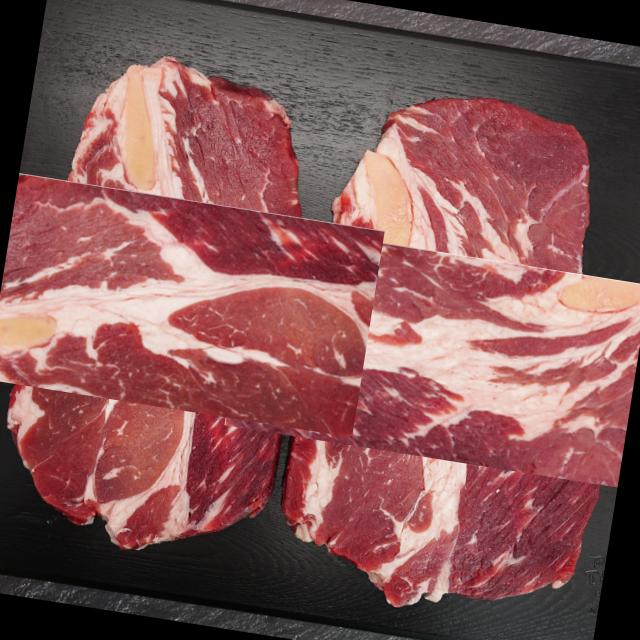beef: (273, 173, 640, 544), (0, 127, 344, 478)
